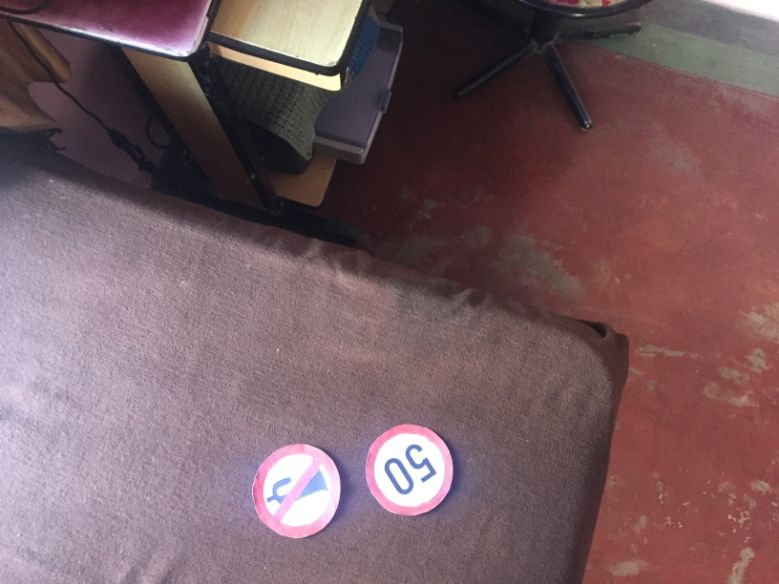no-horn: (253, 443, 339, 540)
speed-50: (364, 424, 454, 516)
